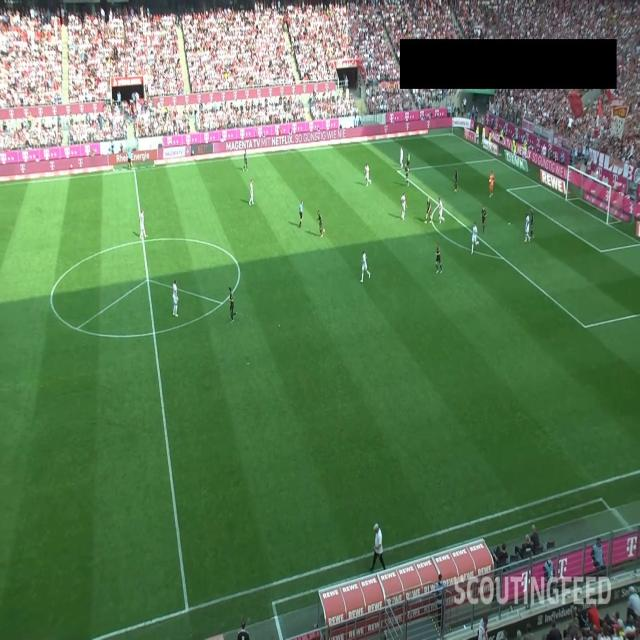ball: (489, 178, 491, 183)
